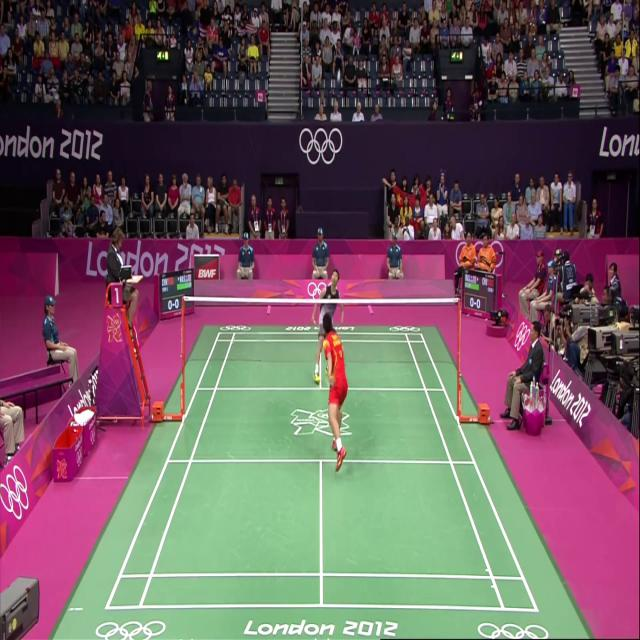Net: (180, 296, 460, 364)
Player1: (314, 308, 357, 493)
Player2: (315, 264, 343, 374)
Shuttlecock: (334, 64, 344, 88)
